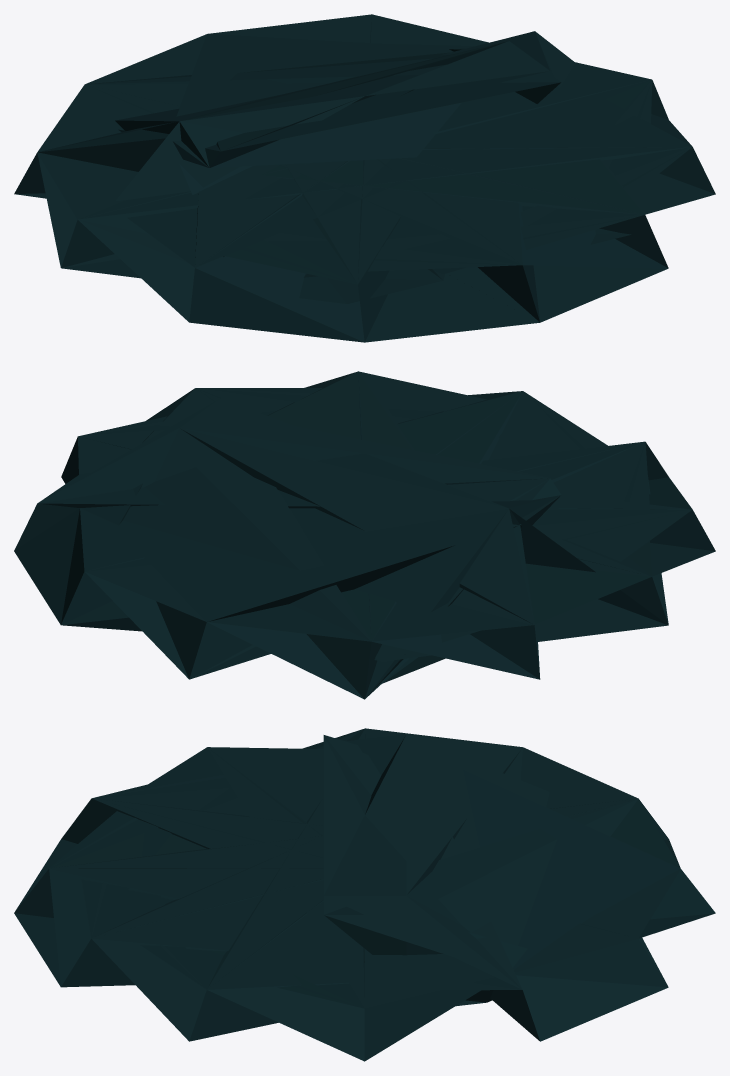
The model's file is S.S._Dolphin_Eternal_Fuel_Dynamo_Base.obj.
3 views of the same model, one above another, from view 1: azimuth 30°, elevation 25°; view 2: azimuth 150°, elevation 25°; view 3: azimuth 270°, elevation 25° (orthographic).
Parts seen in each view (by area): view 1: S.S._Dolphin_Eternal_Fuel_Dynamo_Base; view 2: S.S._Dolphin_Eternal_Fuel_Dynamo_Base; view 3: S.S._Dolphin_Eternal_Fuel_Dynamo_Base.
Boxes of the visible parts, x1=… form: S.S._Dolphin_Eternal_Fuel_Dynamo_Base: x1=14, y1=14, x2=715, y2=342; S.S._Dolphin_Eternal_Fuel_Dynamo_Base: x1=14, y1=371, x2=715, y2=699; S.S._Dolphin_Eternal_Fuel_Dynamo_Base: x1=14, y1=728, x2=715, y2=1061.
Size of the model in its own units: 5.2 by 0.8014 by 5.2.
